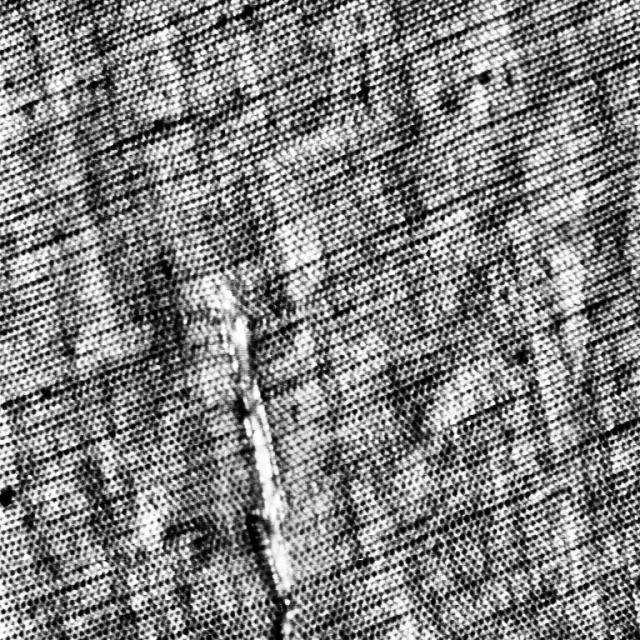Stitch: (204, 272, 299, 638)
